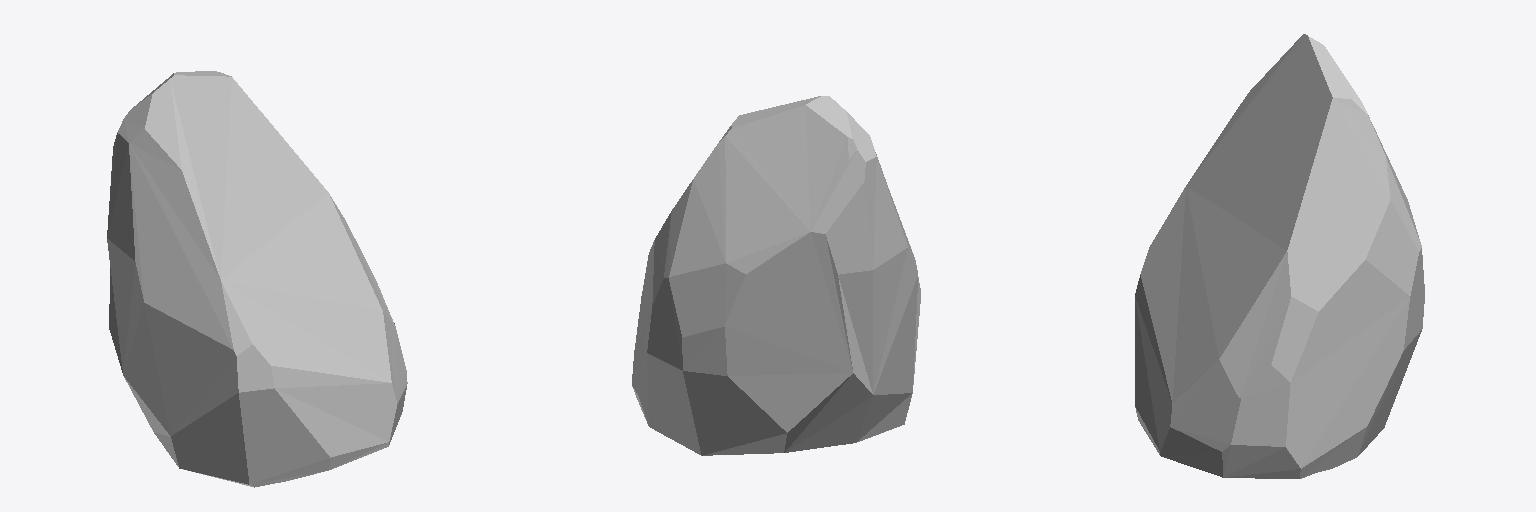
The model's file is rock4.obj.
3 renders of one model, left to right at view 1: azimuth 30°, elevation 25°; view 2: azimuth 150°, elevation 25°; view 3: azimuth 270°, elevation 25°, orthographic.
Parts seen in each view (by area): view 1: mesh_0; view 2: mesh_0; view 3: mesh_0.
Part boxes in pixels (bbox=[...]): mesh_0: bbox=[107, 71, 407, 487]; mesh_0: bbox=[632, 96, 920, 455]; mesh_0: bbox=[1135, 34, 1424, 478].
Bounding box in the file's own units: 5.48 × 7.48 × 5.26.